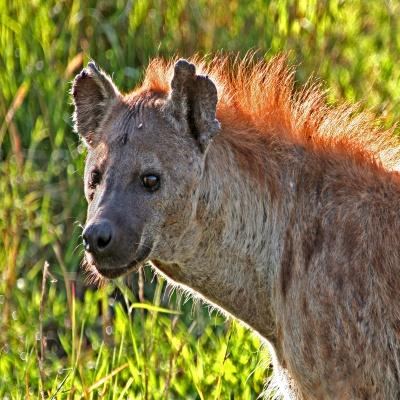hyenas: (42, 45, 400, 400)
